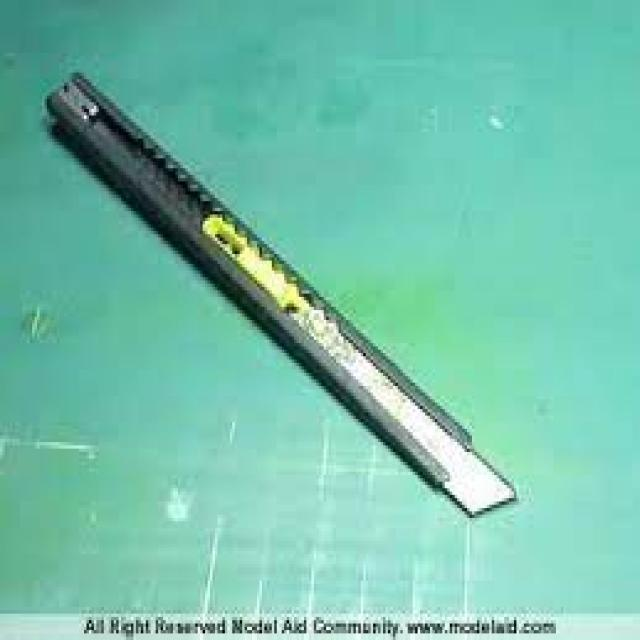cutter: (36, 54, 527, 536)
